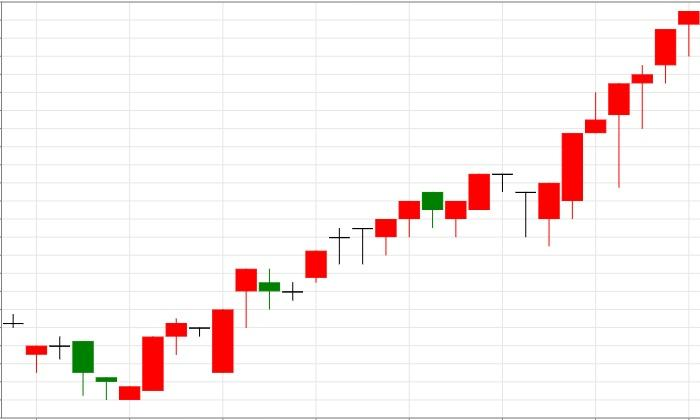three_white_soldiers_rise: (3, 314, 188, 400)
